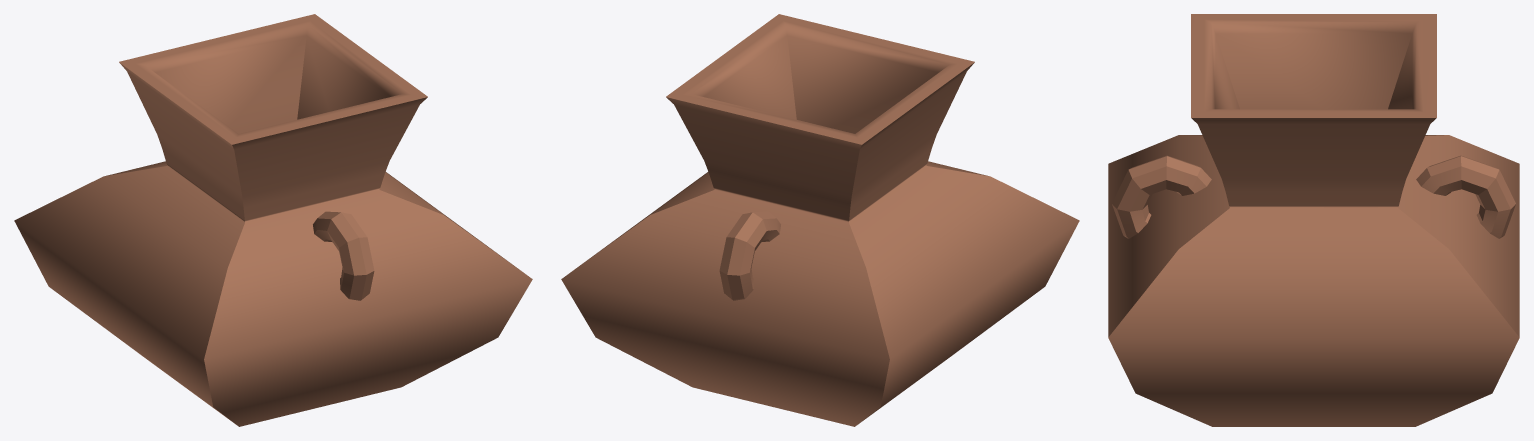
File: Pot1B.glb
3 views of the same model, side by side, from view 1: azimuth 30°, elevation 25°; view 2: azimuth 150°, elevation 25°; view 3: azimuth 270°, elevation 25° (orthographic). The views are drawn at different scales.
Visible parts, largest first — view 1: Pot1LowRes; view 2: Pot1LowRes; view 3: Pot1LowRes.
Part boxes in pixels (x1,y1,x2,y2): Pot1LowRes: (14,14,532,426); Pot1LowRes: (561,14,1079,426); Pot1LowRes: (1108,14,1519,426).
Bounding box in the file's own units: 1.3 × 1.13 × 1.3.
